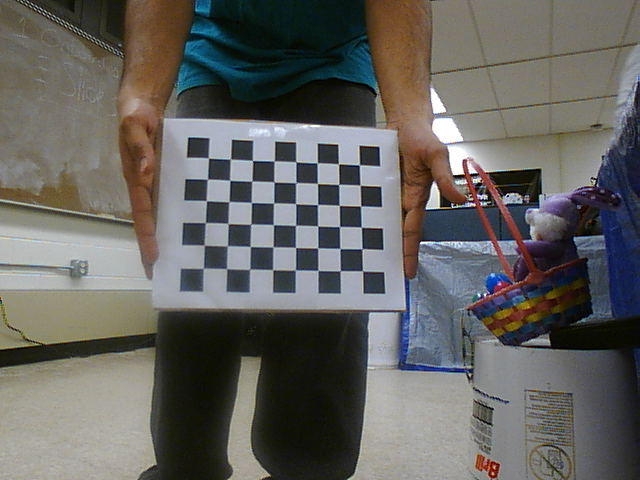bunny: (458, 151, 598, 349)
